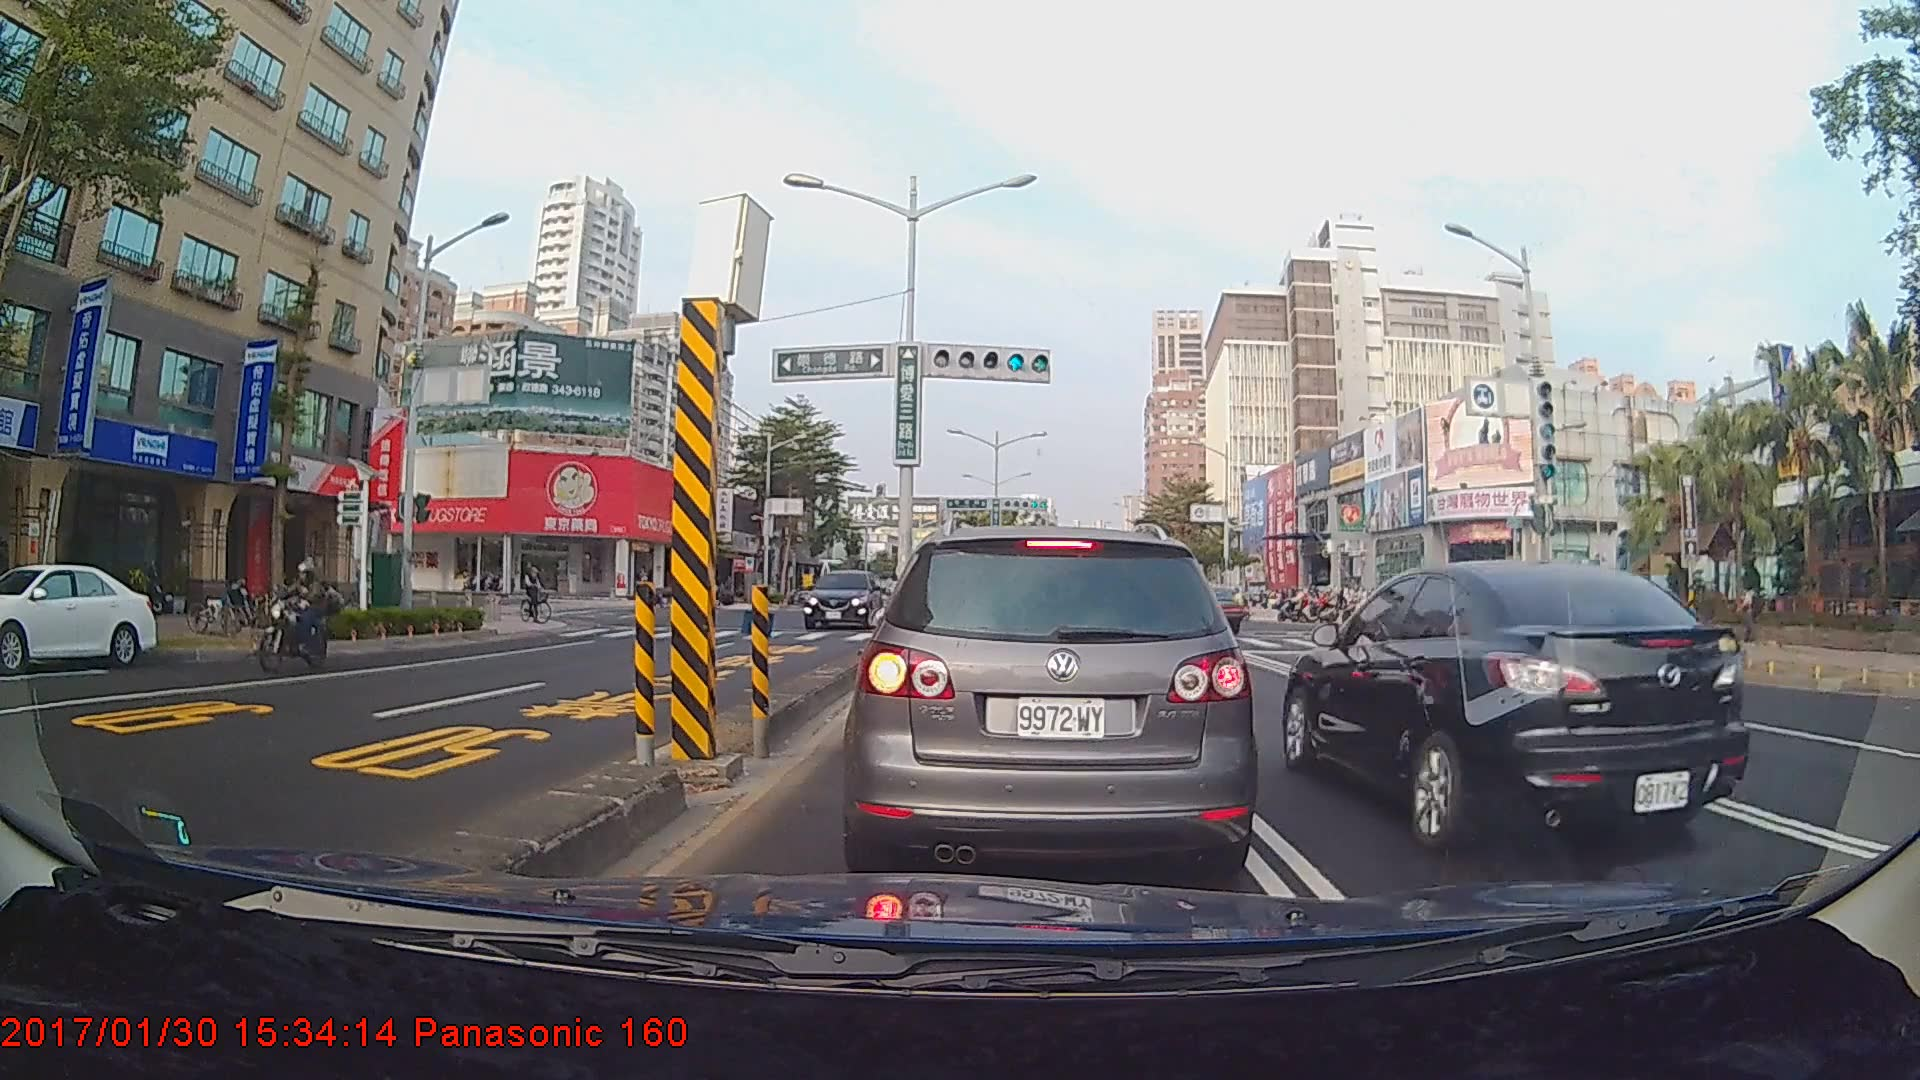pedestrian: (1740, 582, 1764, 646)
rider: (252, 555, 337, 677), (518, 559, 561, 629)
vehicle: (853, 522, 1250, 881), (1278, 556, 1750, 857), (0, 561, 160, 671), (801, 568, 885, 630), (1168, 584, 1243, 634), (638, 576, 735, 609)
